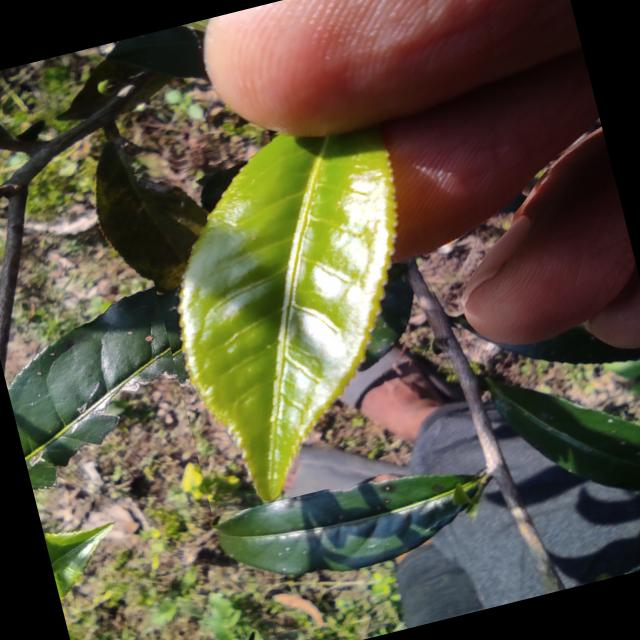Category B 2-4 days: (124, 100, 476, 518)
